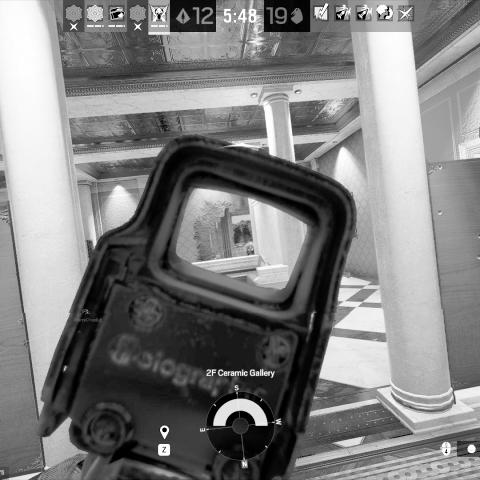Character: (245, 242, 255, 256)
Friend_label: (72, 307, 103, 324)
Head: (249, 241, 253, 246)
